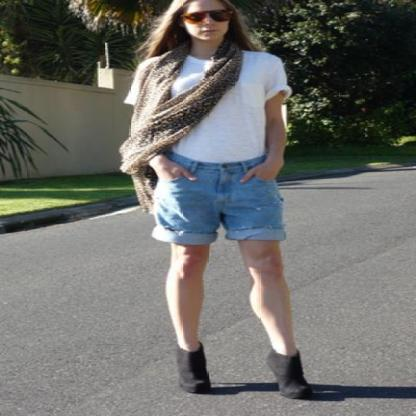shirt: (125, 51, 290, 163)
shoe: (186, 343, 320, 400)
shorts: (149, 152, 302, 265)
